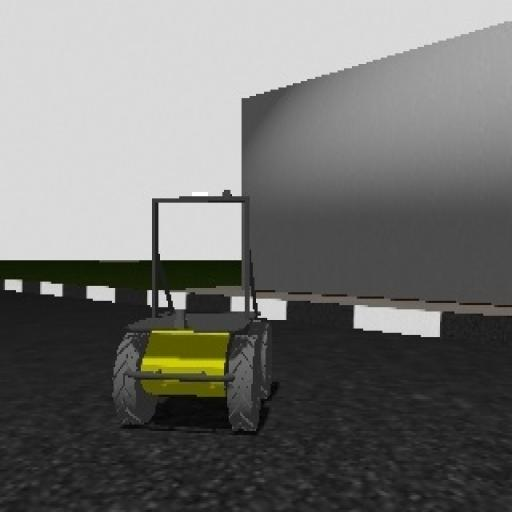huskya200: (92, 178, 280, 459)
